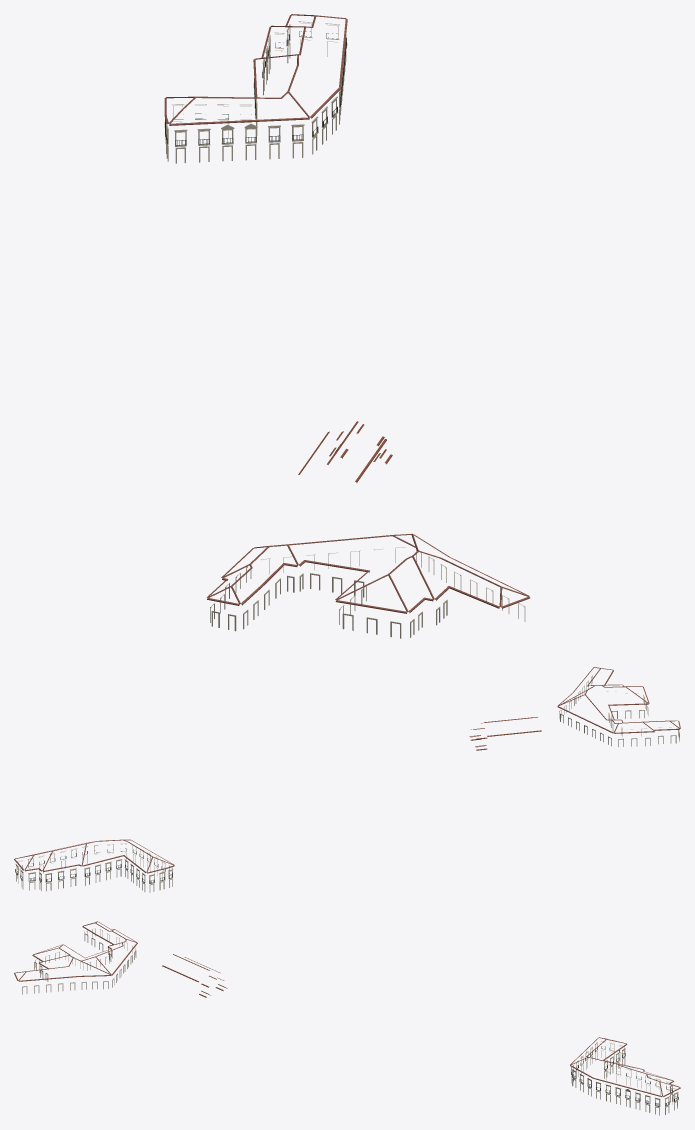
The picture shows the model from 3 angles, top to bottom: view 1: azimuth 30°, elevation 25°; view 2: azimuth 150°, elevation 25°; view 3: azimuth 270°, elevation 25°; orthographic projection. The views are drawn at different scales.
Visible parts, largest first — view 1: detail; view 2: detail; view 3: detail.
Part boxes in pixels (left/top/right/bottom): detail: left=164, top=14, right=530, bottom=638; detail: left=14, top=667, right=680, bottom=892; detail: left=14, top=921, right=680, bottom=1115.
Bounding box in the file's own units: 129 × 13.28 × 211.
